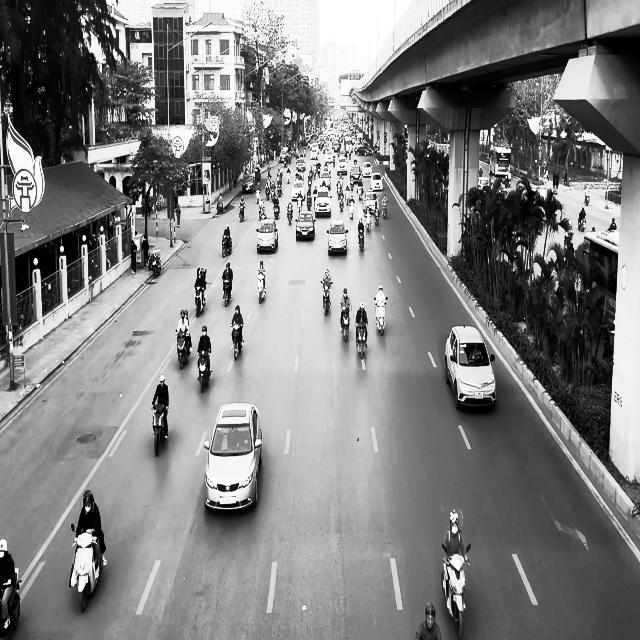bus: (489, 145, 511, 182)
car: (203, 402, 263, 512), (444, 325, 497, 409), (326, 219, 348, 255), (256, 218, 278, 253), (295, 211, 315, 241)
motorbike: (69, 523, 103, 612), (441, 544, 470, 638), (151, 403, 169, 456), (175, 328, 191, 369), (197, 349, 211, 392), (374, 296, 387, 335), (230, 322, 243, 360), (356, 322, 368, 362), (320, 280, 332, 316), (194, 284, 206, 317), (148, 250, 162, 278), (340, 305, 350, 341), (256, 274, 266, 304), (222, 277, 232, 306), (222, 235, 232, 258), (358, 225, 364, 251), (238, 203, 245, 222)
